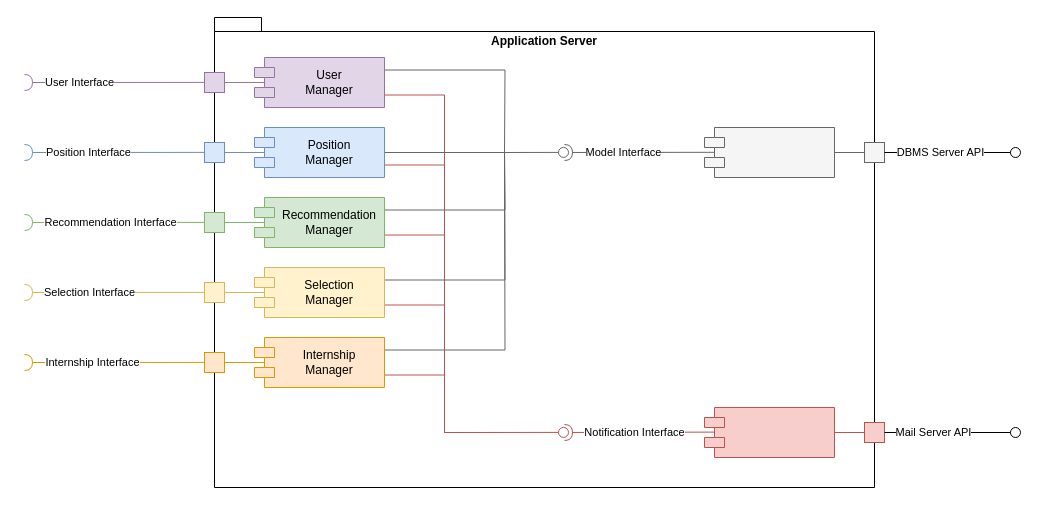
This 1045x505 diagram has some shape labels left out. The box of each missing label's shape, as (x1, y1, x2, y2) in pixels:
Model: (704, 126, 834, 178)
Notification Manager: (704, 406, 834, 458)
